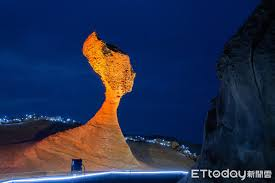yehliu: (73, 29, 149, 98)
